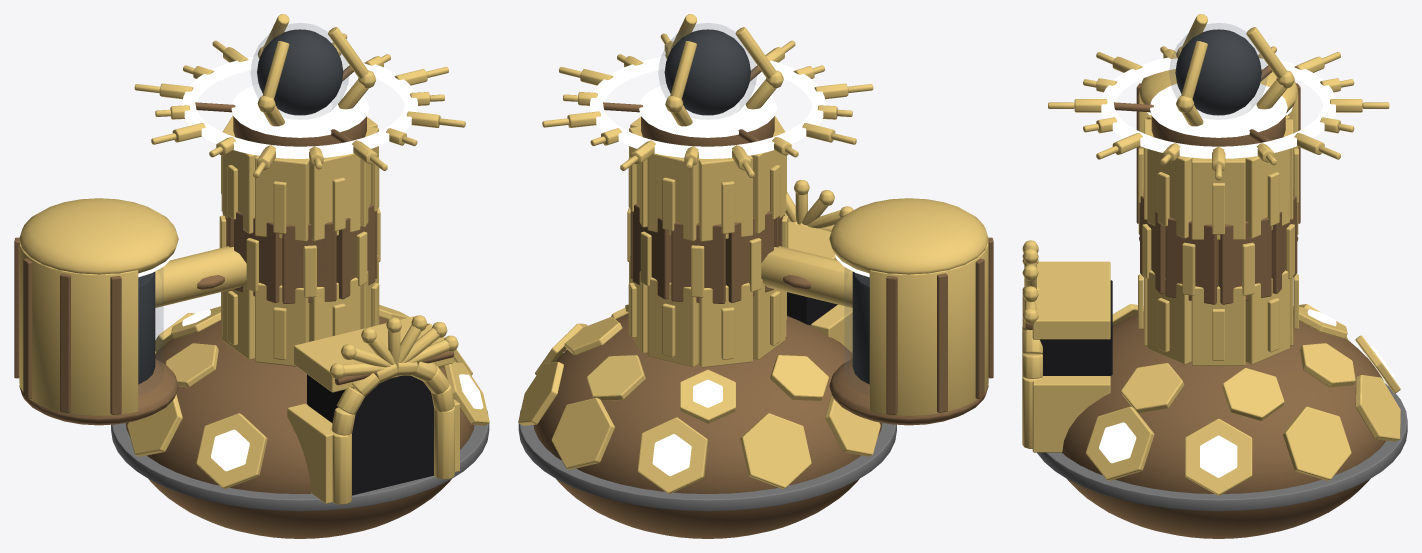
Rendered from SOLAR_Vat_T1.glb.
3 views of the same model, side by side, from view 1: azimuth 30°, elevation 25°; view 2: azimuth 150°, elevation 25°; view 3: azimuth 270°, elevation 25° (orthographic).
Parts seen in each view (by area): view 1: SOLAR_Vat_T1; view 2: SOLAR_Vat_T1; view 3: SOLAR_Vat_T1.
Part boxes in pixels (x1,y1,x2,y2): SOLAR_Vat_T1: (14,14,489,538); SOLAR_Vat_T1: (518,14,993,538); SOLAR_Vat_T1: (1022,14,1407,538).
Size of the model in its own units: 4.7 by 4.96 by 3.57.
